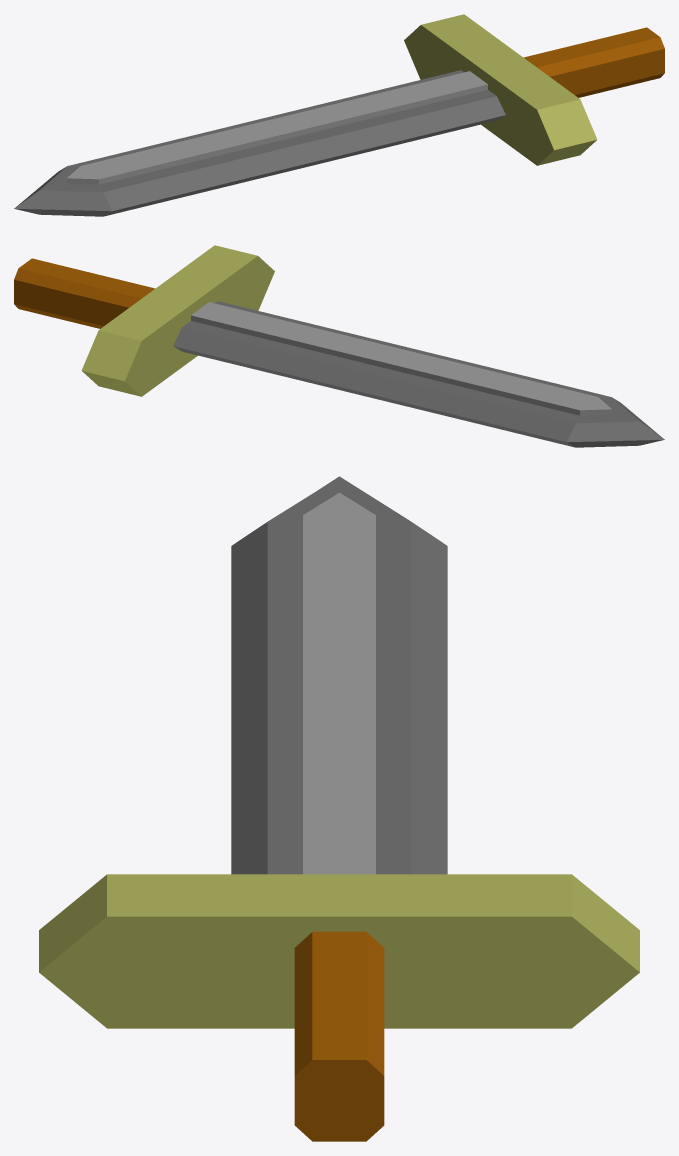
The model's file is BaseSword.fbx.
The picture shows the model from 3 angles, top to bottom: view 1: azimuth 30°, elevation 25°; view 2: azimuth 150°, elevation 25°; view 3: azimuth 270°, elevation 25°; orthographic projection. The views are drawn at different scales.
Parts seen in each view (by area): view 1: Cube.002, Cube.001, Cube.003, Cube; view 2: Cube.002, Cube.001, Cube.003, Cube; view 3: Cube.001, Cube.002, Cube.003, Cube.
Boxes of the visible parts, left/top/right/bottom form: Cube.002: left=14, top=70, right=505, bottom=216; Cube.001: left=404, top=14, right=597, bottom=165; Cube.003: left=66, top=71, right=487, bottom=184; Cube: left=523, top=27, right=664, bottom=97; Cube.002: left=173, top=301, right=664, bottom=447; Cube.001: left=81, top=245, right=274, bottom=396; Cube.003: left=191, top=302, right=612, bottom=415; Cube: left=14, top=258, right=155, bottom=328; Cube.001: left=39, top=874, right=639, bottom=1028; Cube.002: left=231, top=476, right=447, bottom=874; Cube.003: left=303, top=492, right=375, bottom=874; Cube: left=294, top=931, right=384, bottom=1141.
Size of the model in its own units: 358 by 29.92 by 146.
